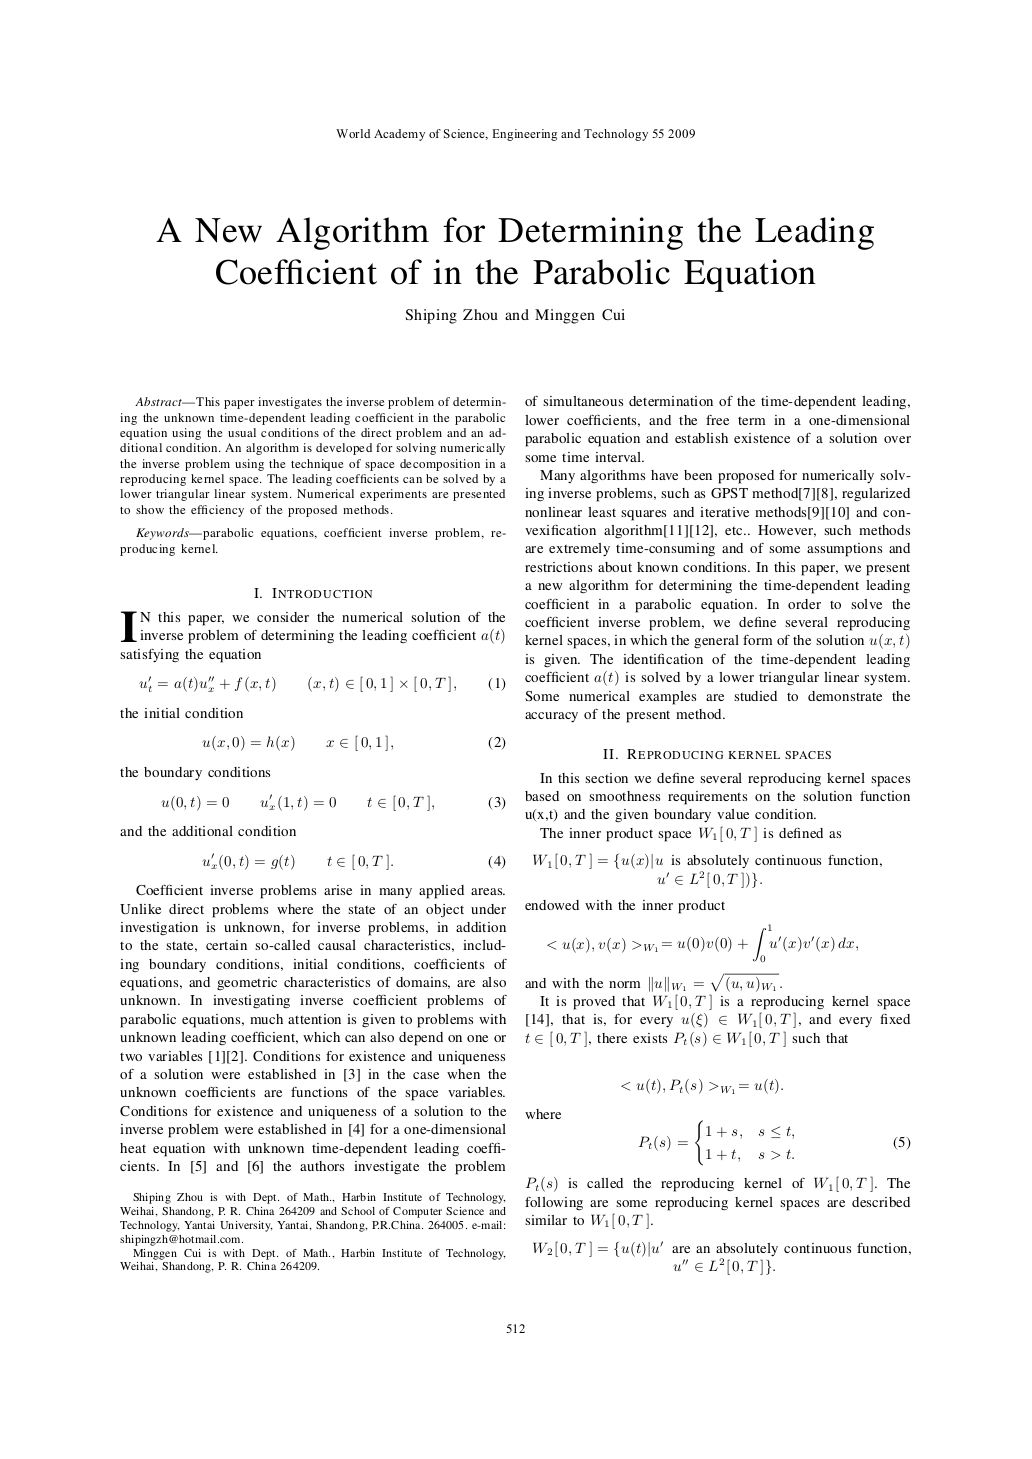figure: (120, 611, 136, 641)
formula: (638, 1120, 910, 1165), (547, 923, 857, 963), (161, 793, 505, 812), (138, 675, 505, 692), (202, 852, 505, 870), (202, 735, 505, 751), (621, 1077, 782, 1094), (657, 871, 761, 887), (673, 1258, 774, 1274)
